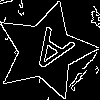A: (20, 26, 76, 83)
